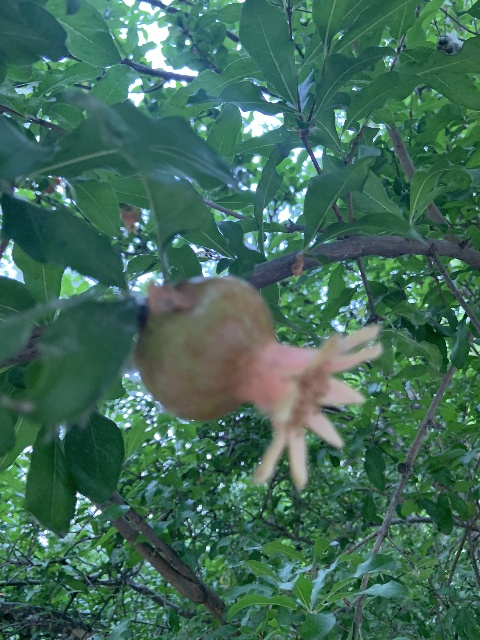early-fruit: (135, 276, 382, 489), (120, 205, 143, 234)
